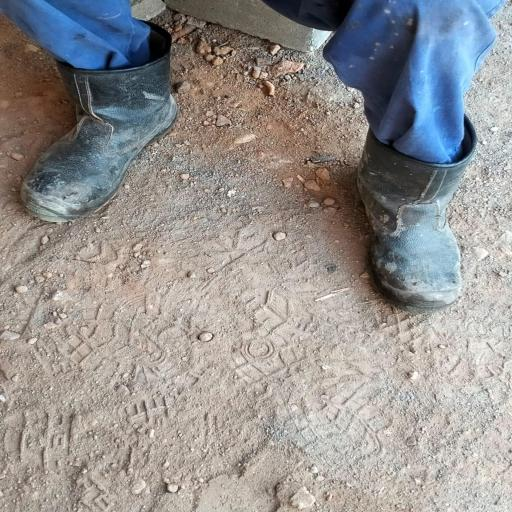safety_shoe: (19, 16, 191, 224), (352, 119, 476, 305)
